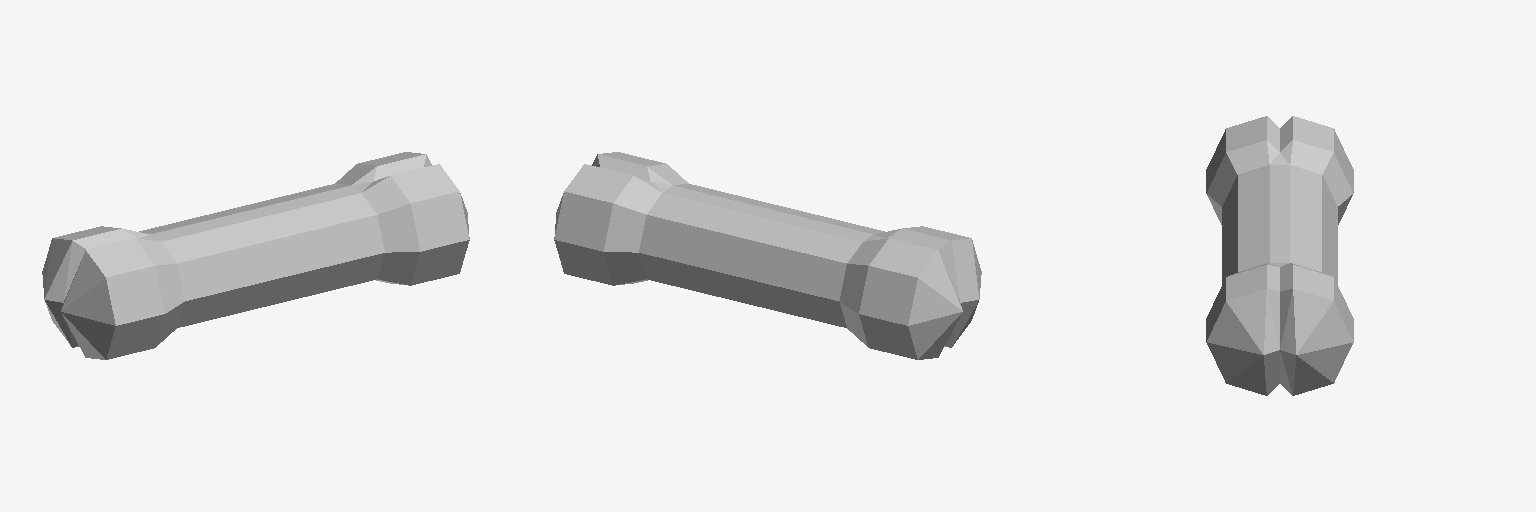
Rendered from boneDummy.obj.
3 views of the same model, side by side, from view 1: azimuth 30°, elevation 25°; view 2: azimuth 150°, elevation 25°; view 3: azimuth 270°, elevation 25° (orthographic).
Parts seen in each view (by area): view 1: bone; view 2: bone; view 3: bone.
Boxes of the visible parts, x1,y1,x2,y2 form: bone: [42, 152, 469, 359]; bone: [554, 152, 981, 359]; bone: [1206, 116, 1353, 395].
Size of the model in its own units: 2.28 by 0.5761 by 0.7134.